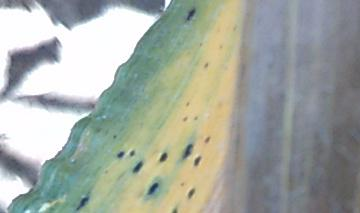tarspot: (76, 196, 90, 211), (186, 7, 196, 24), (183, 142, 192, 159), (147, 182, 158, 195), (132, 161, 143, 172), (159, 152, 167, 162), (193, 155, 201, 165), (187, 188, 195, 198), (116, 151, 126, 158), (129, 149, 136, 157), (205, 136, 211, 143), (182, 116, 188, 123), (203, 61, 209, 68), (179, 181, 186, 187), (172, 207, 178, 213), (193, 114, 199, 120), (185, 101, 191, 107), (104, 168, 109, 175), (218, 44, 224, 49), (112, 134, 117, 139), (198, 42, 203, 47)
